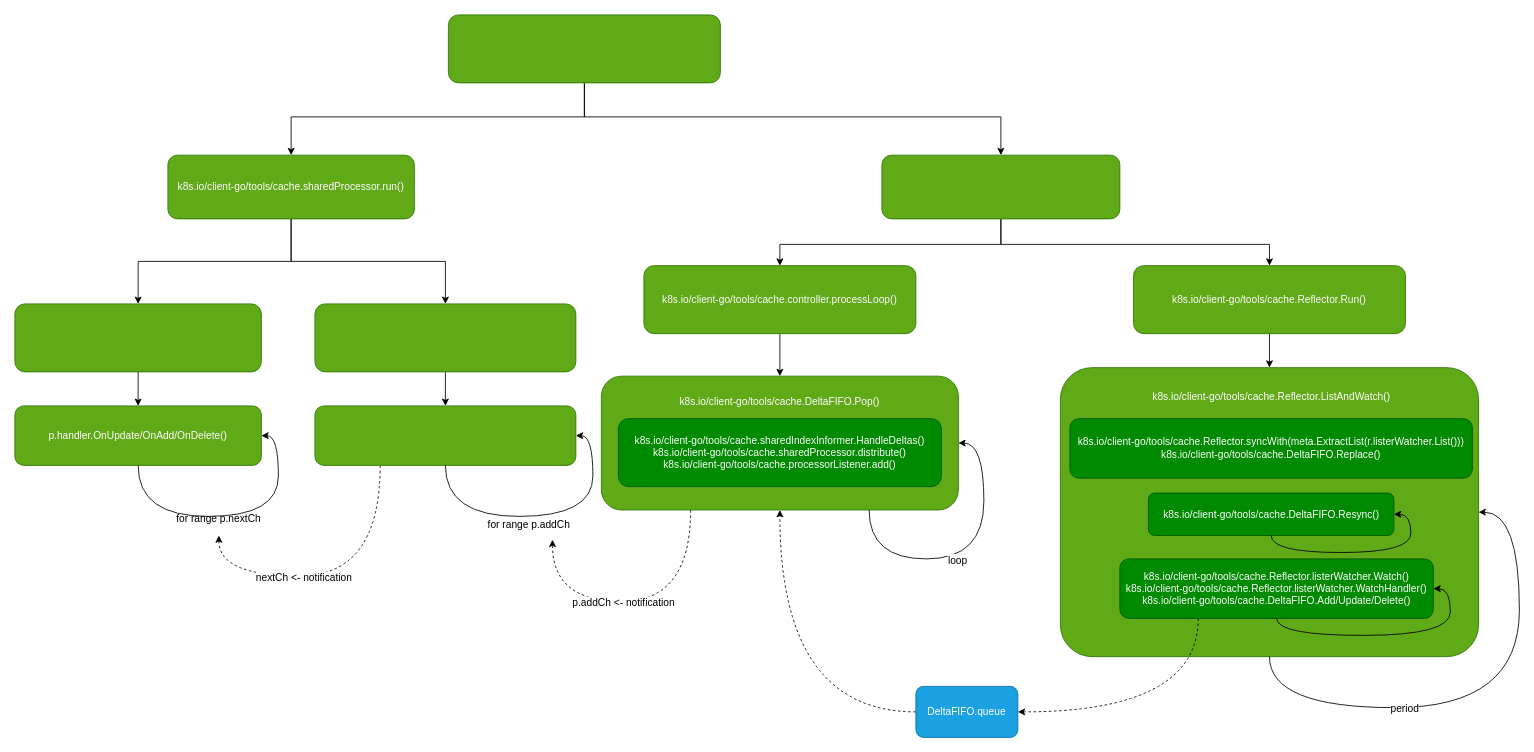
The diagram is 1534 pixels wide and 752 high, and some of its shapes have lost their labels. The centre of each missing label's shape, as x and y in pixels:
"k8s.io/client-go/tools/cache.controller.Run()" belongs at pixel 1000 186.
"k8s.io/client-go/tools/cache.processorListener.pop()" belongs at pixel 445 337.
"k8s.io/client-go/tools/cache.processorListener.run()" belongs at pixel 137 337.
"k8s.io/client-go/tools/cache.sharedIndexInformer.Run()" belongs at pixel 584 48.
"k8s.io/utils/buffer.RingGrowing.WriteOne()" belongs at pixel 445 435.
